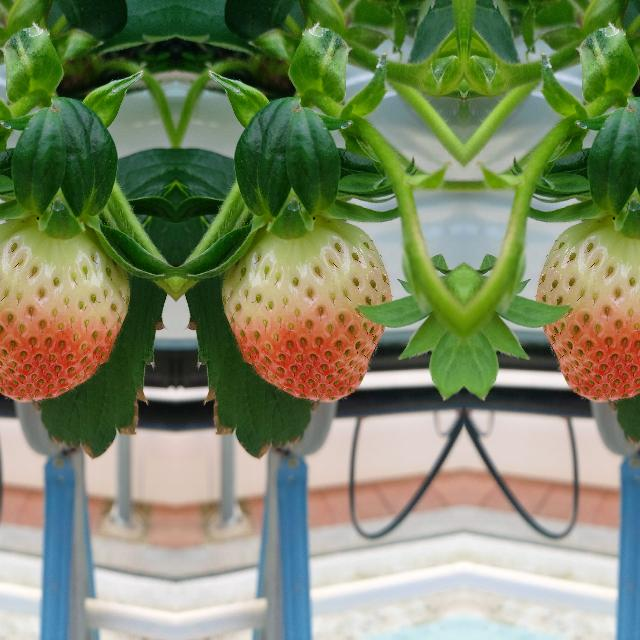Health_50: (219, 218, 391, 402), (0, 217, 131, 402), (535, 217, 640, 402)
